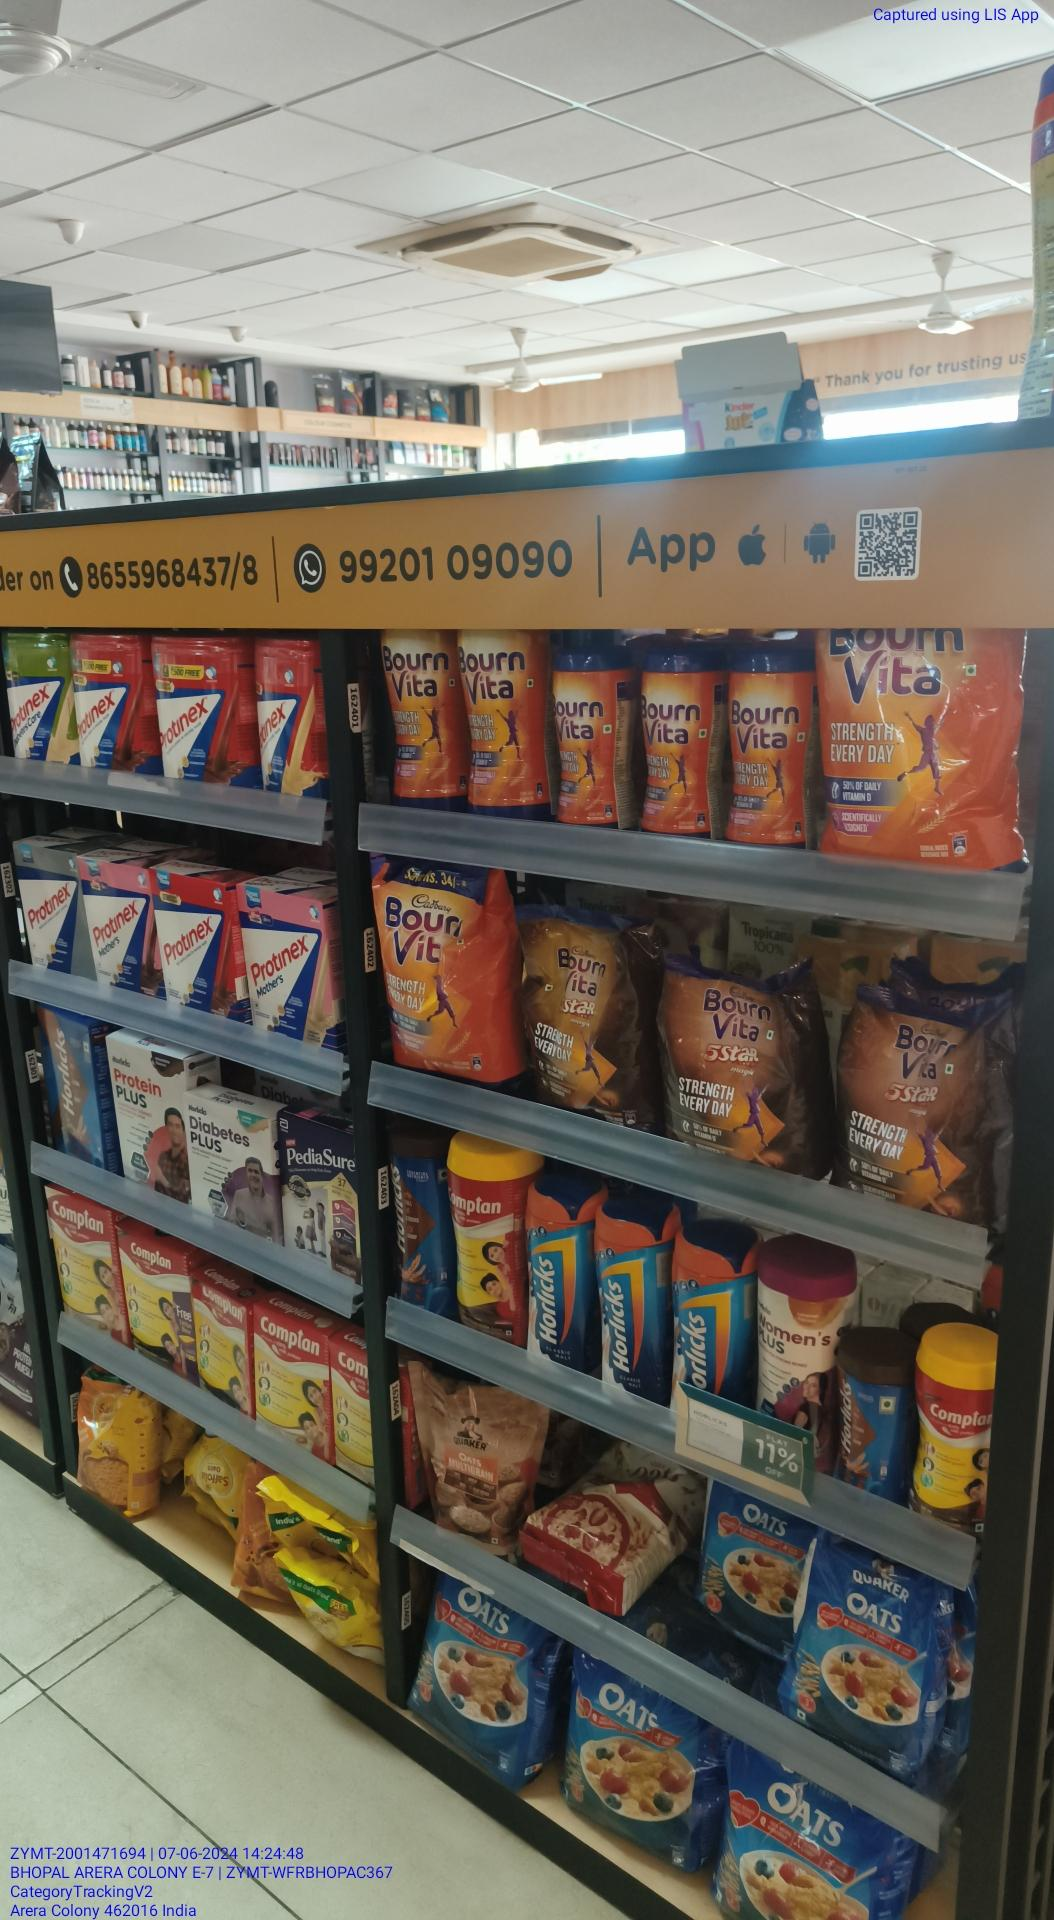BOURN_VITA_FIVE_STAR_MAGIC_500_G_POUCH: (663, 961, 815, 1164), (859, 996, 984, 1206), (533, 930, 646, 1110)
HORLICK_CLASSIC_MALT_500_G_JAR: (598, 1206, 672, 1401), (671, 1231, 750, 1402), (524, 1182, 594, 1373)
PROTINEX_CHOCOLATE_400_G_JAR: (156, 633, 252, 785), (80, 630, 149, 768)
PROTINEX_VANILLA_400_G_JAR: (257, 643, 328, 803)
